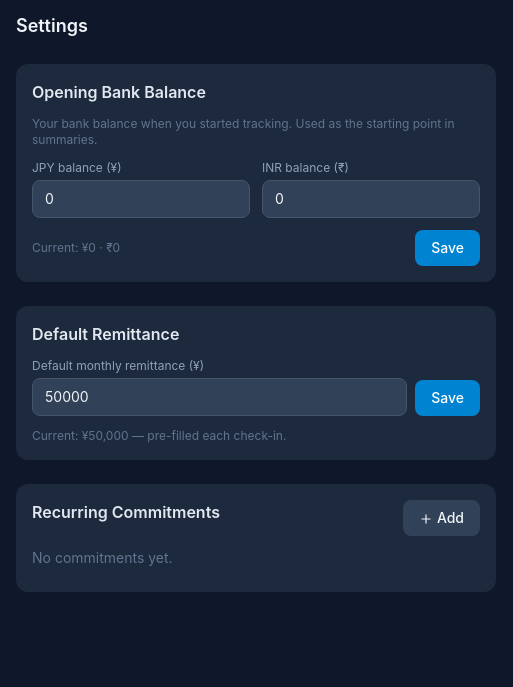
SettingsView (extended) › adds a commitment and it appears in the list
Click the button "Add" at (441, 518), box top-left (403, 500), bottom-right (480, 536)
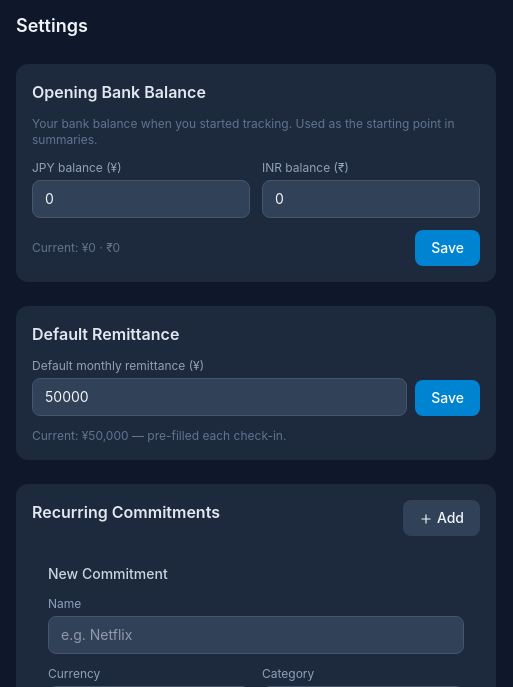
Type "Gym" into the field with placeholder "e.g. Netflix" at (256, 635), box top-left (48, 616), bottom-right (464, 654)
(page scrolled)
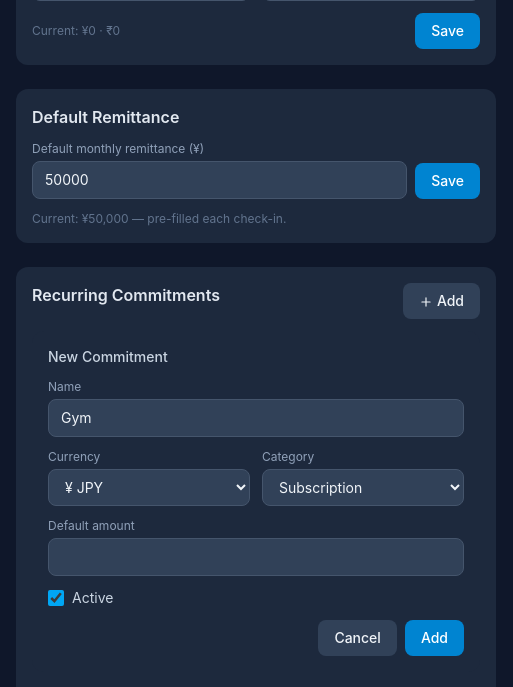
Type "3000" into the number field labelled "Default amount" at (256, 557), box top-left (48, 538), bottom-right (464, 576)
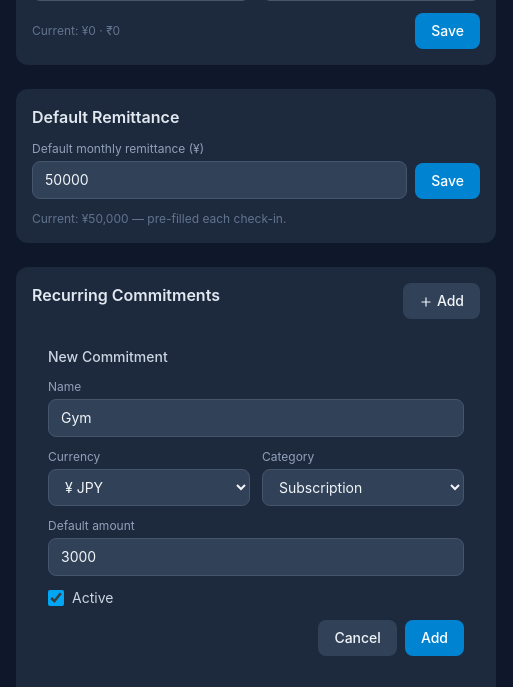
Click the button "Add" below "Category" at (434, 638), box top-left (405, 620), bottom-right (464, 656)
(page scrolled)
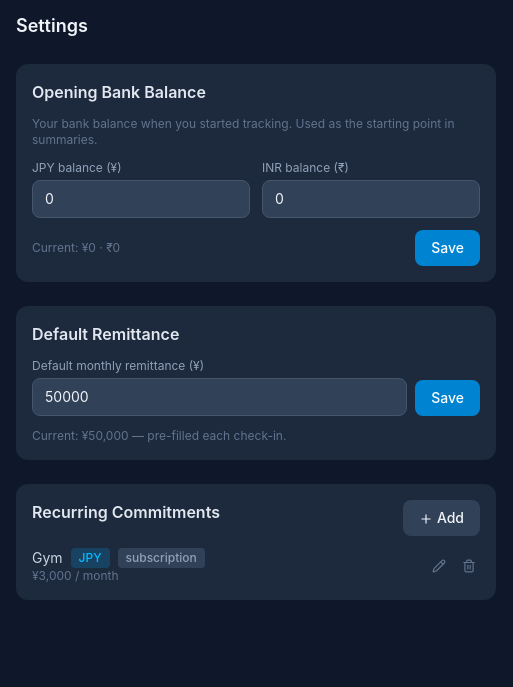
Now the text "Gym" is shown, box top-left (32, 548), bottom-right (63, 568)
